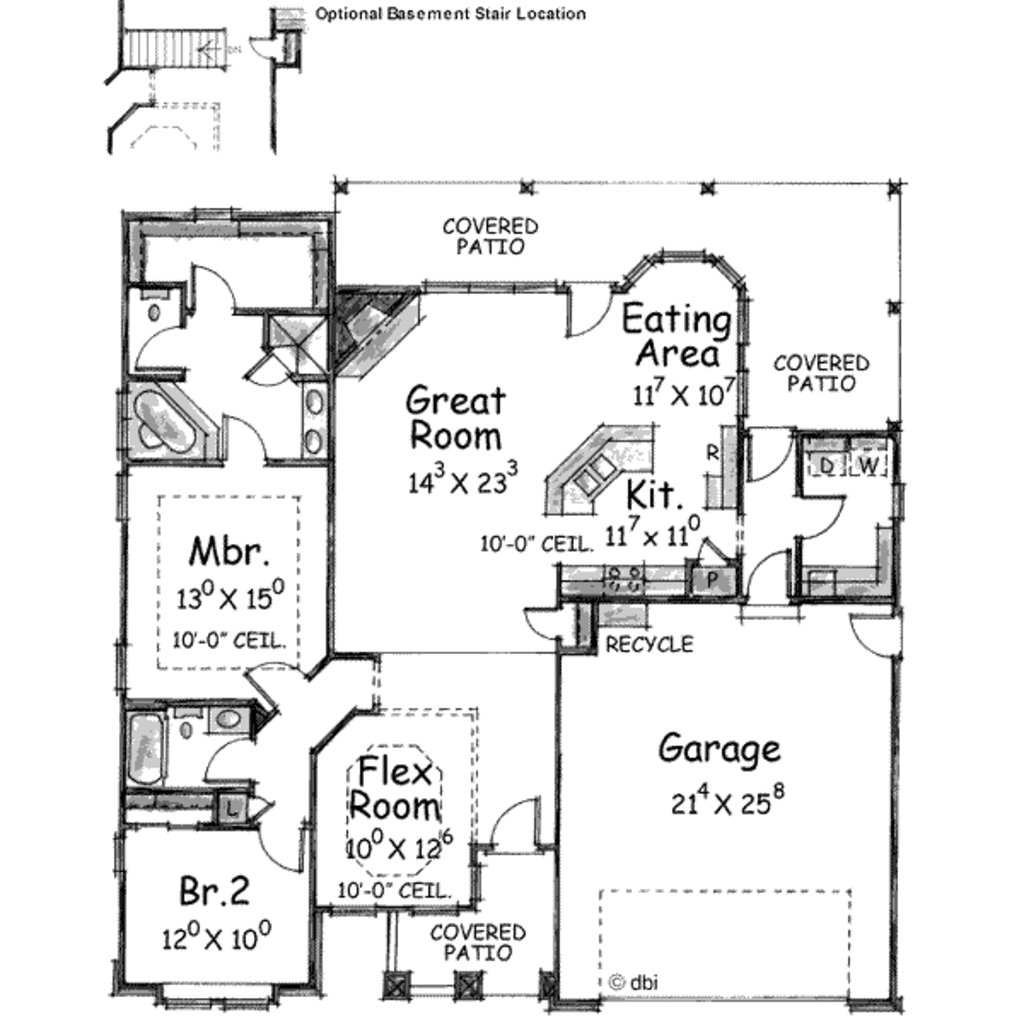door: (552, 274, 626, 357), (734, 538, 803, 614), (223, 654, 314, 706), (846, 603, 915, 665), (482, 797, 552, 857), (739, 419, 792, 493), (122, 325, 196, 374), (252, 819, 311, 876), (179, 260, 233, 322), (215, 409, 265, 471), (204, 735, 261, 788), (790, 490, 842, 546), (517, 600, 571, 651), (247, 351, 287, 392), (247, 27, 288, 63), (249, 800, 276, 822)
large_sink: (120, 282, 174, 325), (174, 703, 198, 746)
small_sink: (296, 378, 336, 460), (209, 698, 252, 735)
stairs: (111, 9, 244, 78)
tub: (128, 714, 169, 787)
twin_sink: (573, 447, 630, 511)
window: (152, 982, 284, 1014), (107, 641, 142, 698), (114, 465, 131, 536)
